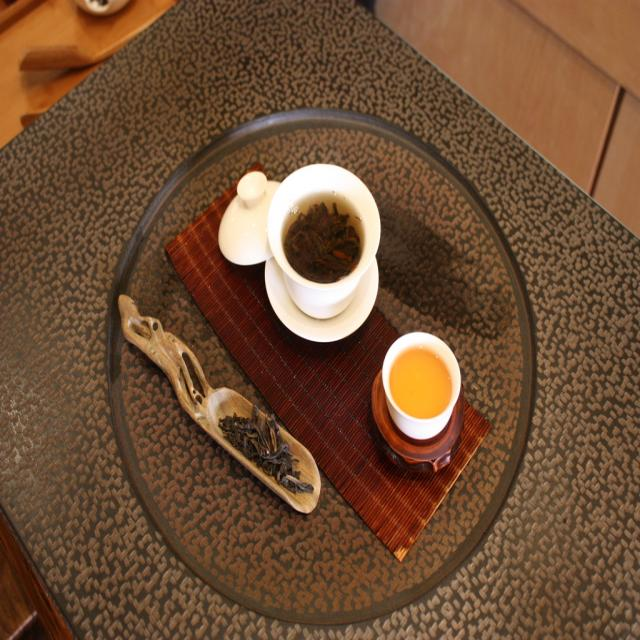Tea: (388, 345, 451, 421)
